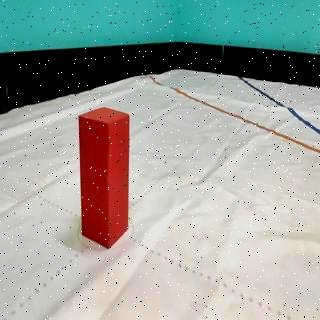redbox: (78, 105, 130, 248)
